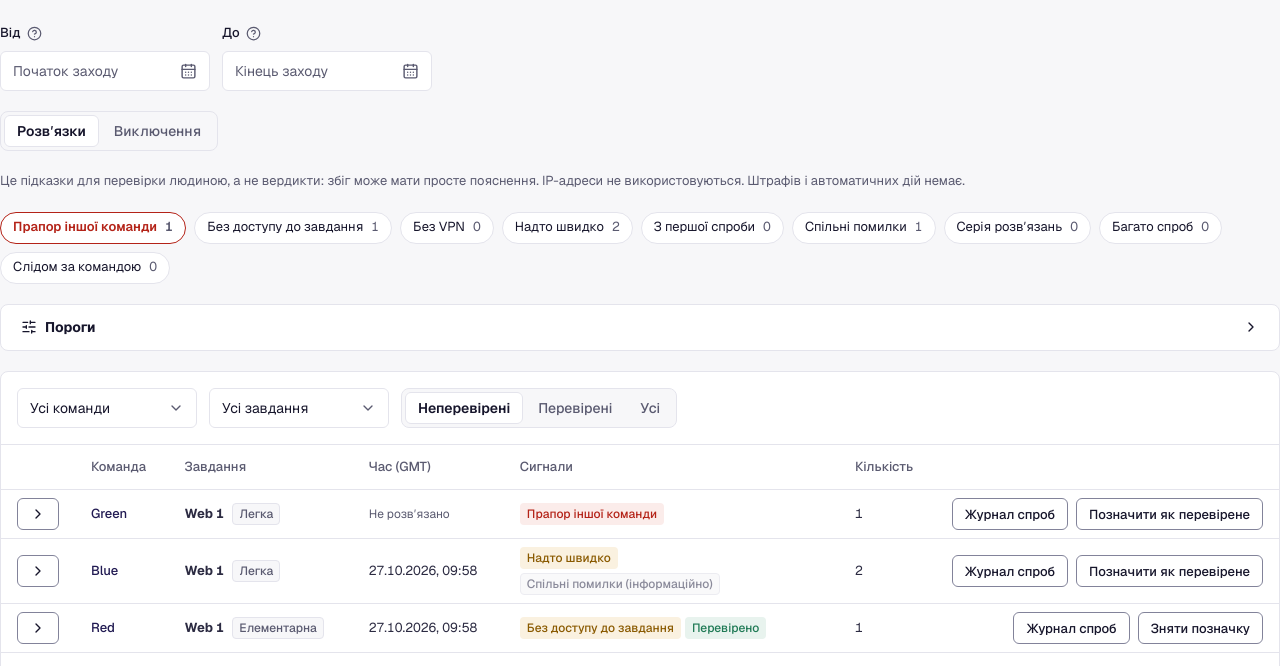
Scenario: Доброчесність › keeps the dialog open with the message when the pattern cannot be dismissed
This screenshot has width=1280, height=666.
Click the button named "Докази: Red, Web 1".
click(38, 628)  # box [17,612,59,644]
(page scrolled)
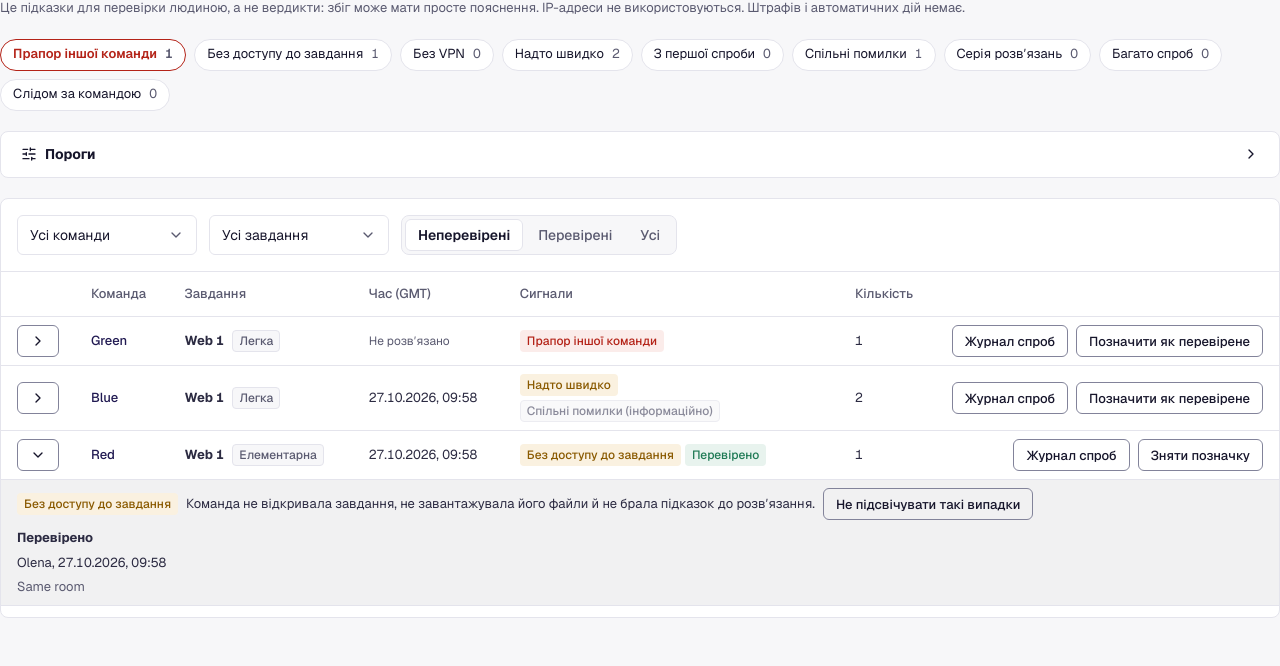
Click the button "Не підсвічувати такі випадки".
click(928, 504)  # box [823,488,1034,520]
(page scrolled)
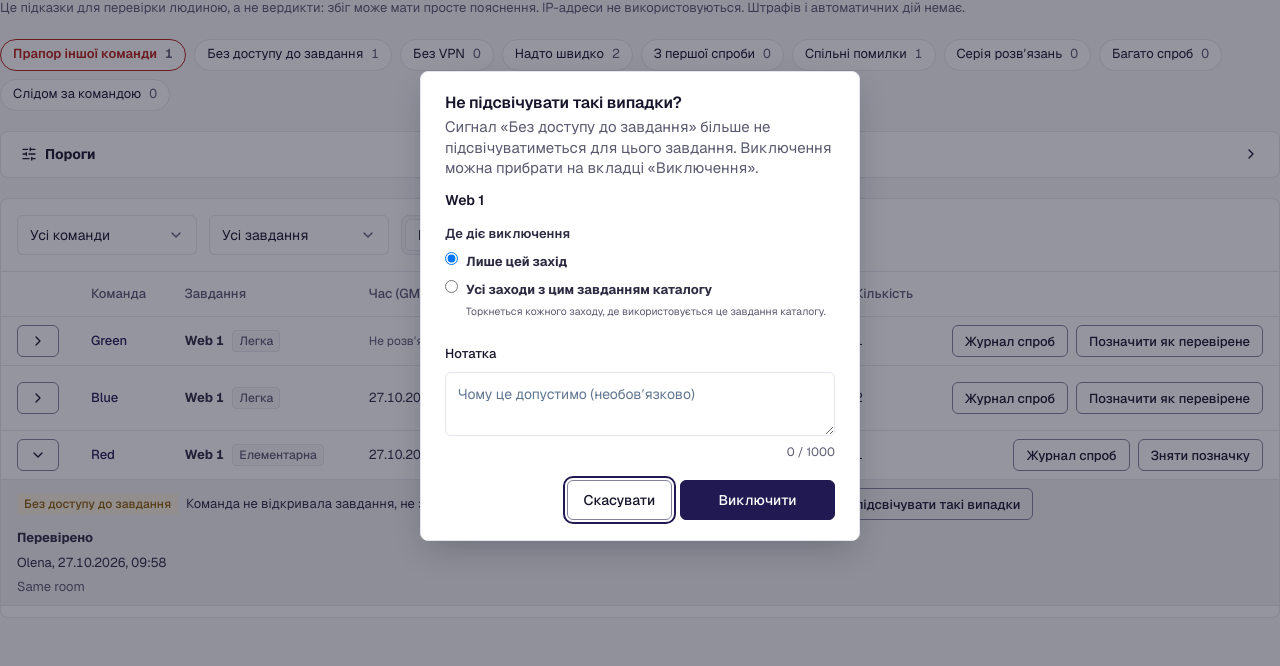
Click the button "Виключити".
click(758, 500)  # box [680,480,835,520]
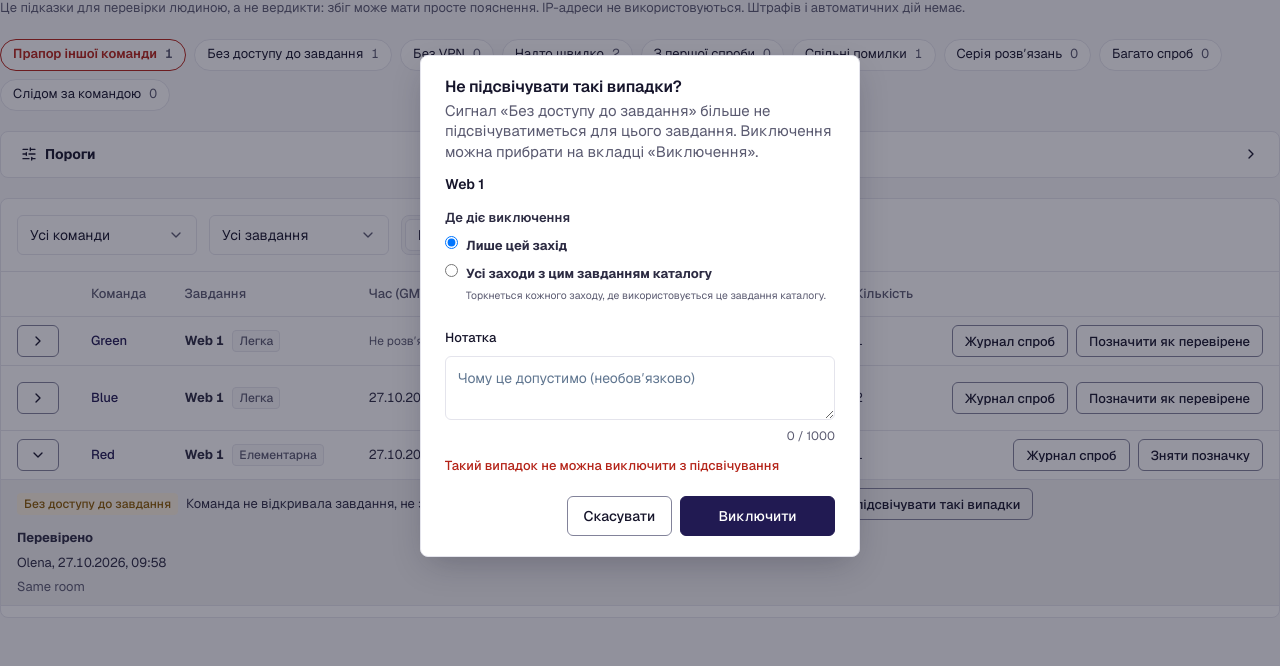
Check: the dialog is shown, box [420,55,860,557]
Check: the text "Такий випадок не можна виключити з підсвічування" is shown, box [445,456,835,476]
